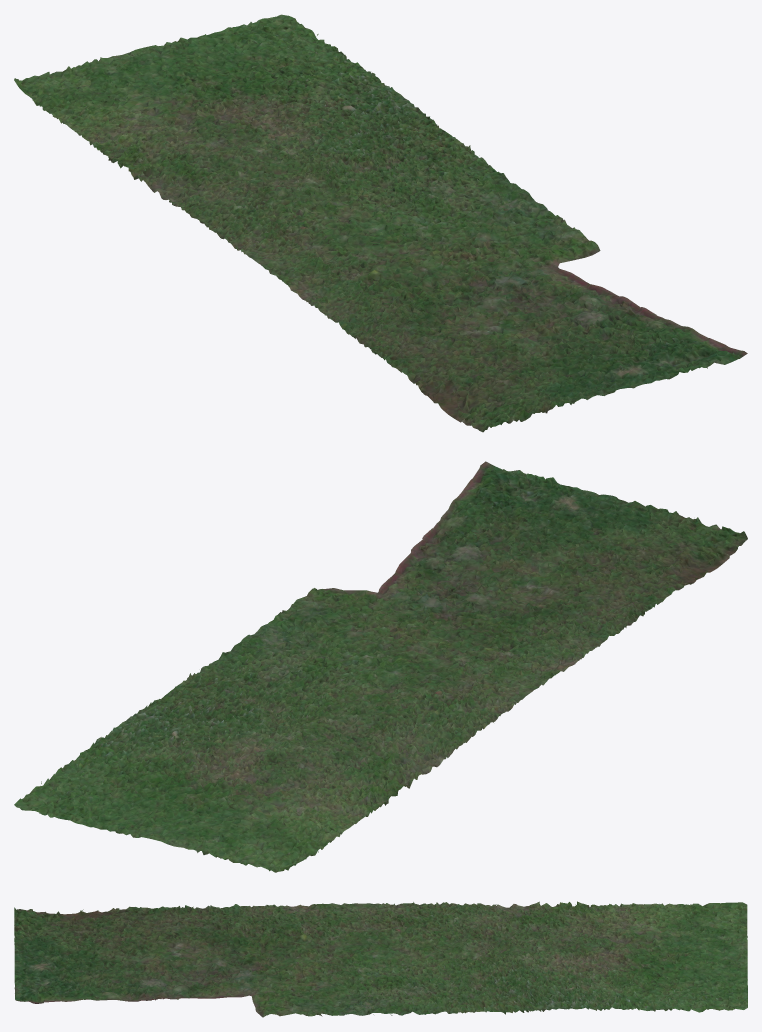
The model's file is grass.lod2.glb.
The picture shows the model from 3 angles, top to bottom: view 1: azimuth 30°, elevation 25°; view 2: azimuth 150°, elevation 25°; view 3: azimuth 270°, elevation 25°; orthographic projection. The views are drawn at different scales.
Parts seen in each view (by area): view 1: Model_material0_0; view 2: Model_material0_0; view 3: Model_material0_0.
Boxes of the visible parts, x1,y1,x2,y2 form: Model_material0_0: [14, 14, 747, 432]; Model_material0_0: [14, 461, 747, 872]; Model_material0_0: [14, 901, 747, 1017].
Bounding box in the file's own units: 94.12 × 6.94 × 274.
Materials: 1 (1 with a texture image).
